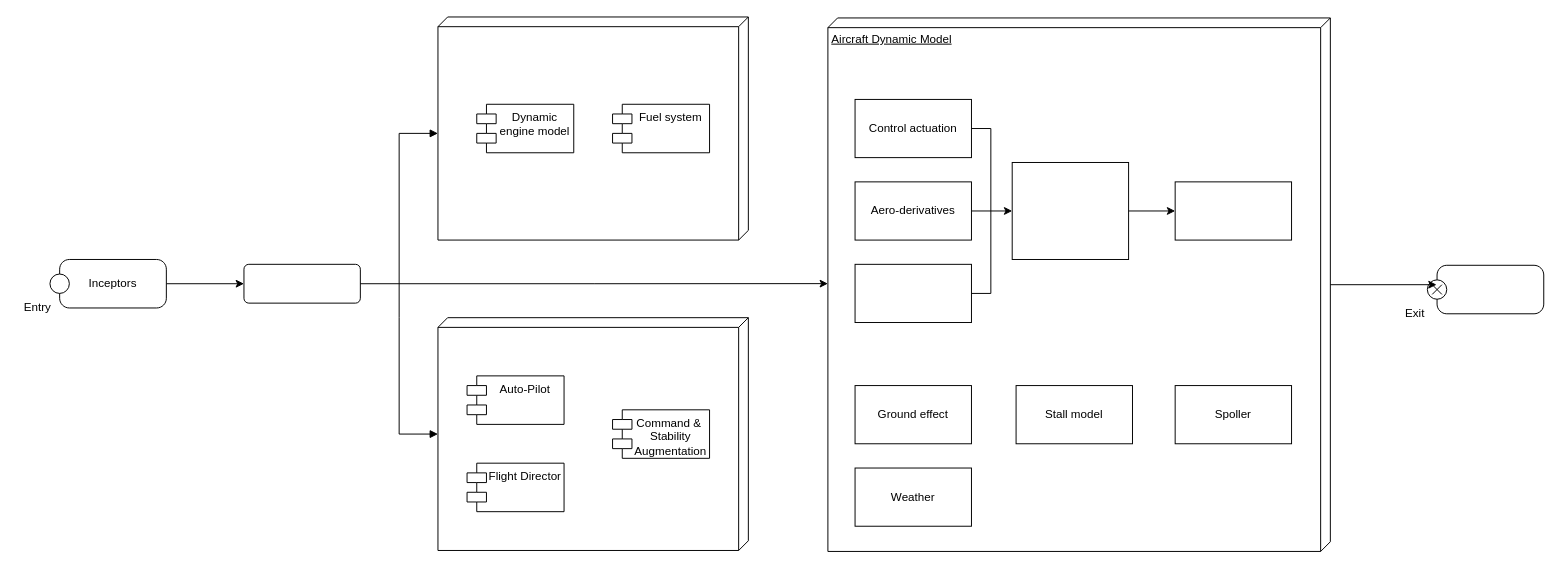
This 1561x568 diagram has some shape labels left out. The shapes that lost their labels are listed below. From the top down, each one's box as (x1, y1, x2, y2) in pixels, then its label:
(437, 16, 748, 240): Powertrain
(1011, 162, 1129, 259): Forces & Moments calculation
(1174, 181, 1292, 240): Equations of motion
(243, 263, 360, 303): Data preprocessing
(854, 263, 971, 323): Landing gear
(1426, 264, 1544, 314): States
(437, 317, 748, 550): Flight Control System
